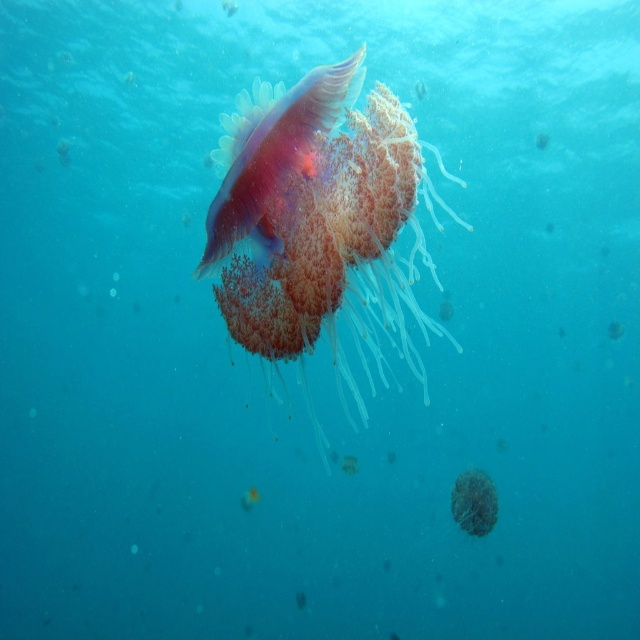Jellyfish: (191, 42, 473, 478)
